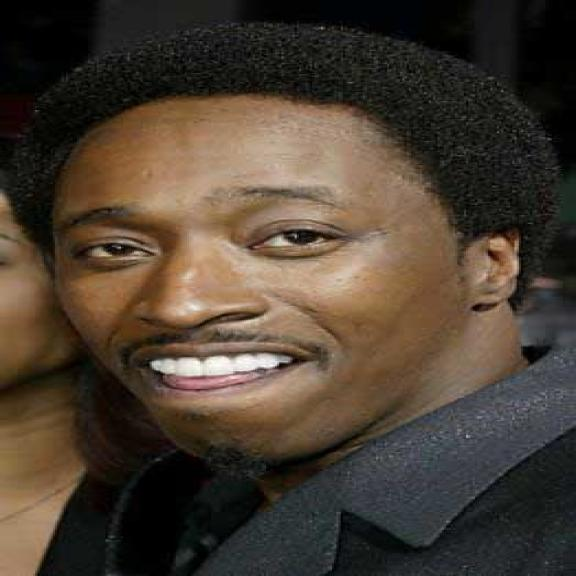face: (65, 113, 532, 470)
